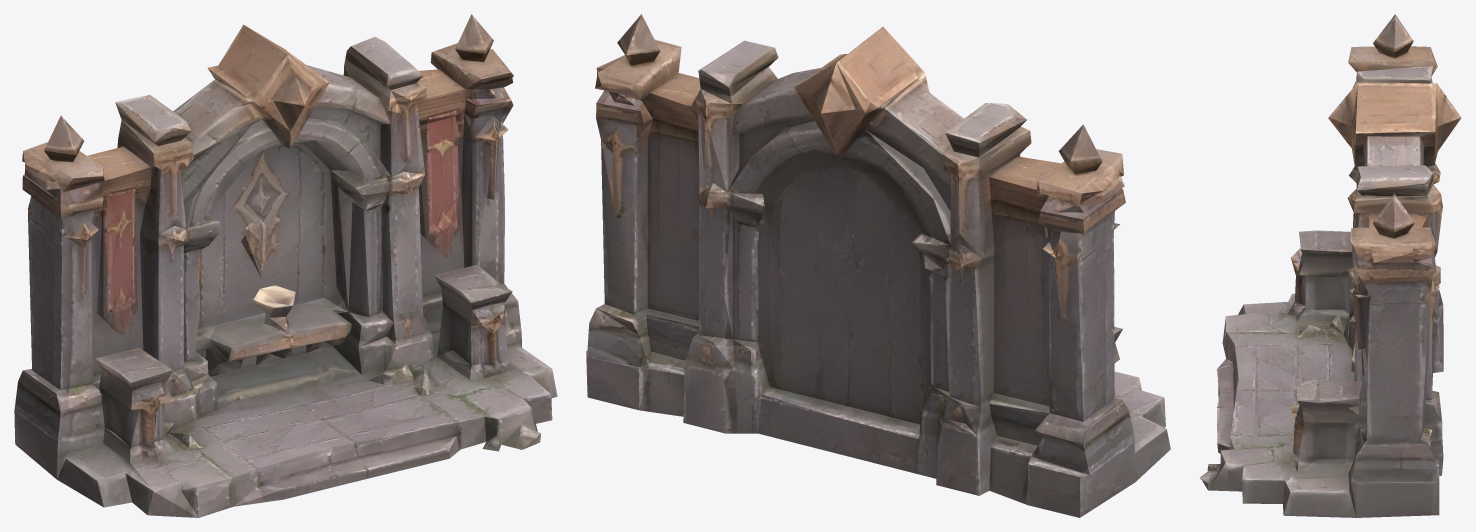
Rendered from hub_trophy_wall.glb.
3 views of the same model, side by side, from view 1: azimuth 30°, elevation 25°; view 2: azimuth 150°, elevation 25°; view 3: azimuth 270°, elevation 25° (orthographic). The views are drawn at different scales.
Parts seen in each view (by area): view 1: body; view 2: body; view 3: body.
Part boxes in pixels (x1,y1,x2,y2): body: [14, 14, 557, 517]; body: [586, 14, 1170, 517]; body: [1199, 14, 1461, 517].
Bounding box in the file's own units: 3.8 × 2.85 × 2.03.
1 material, 1 textured.
